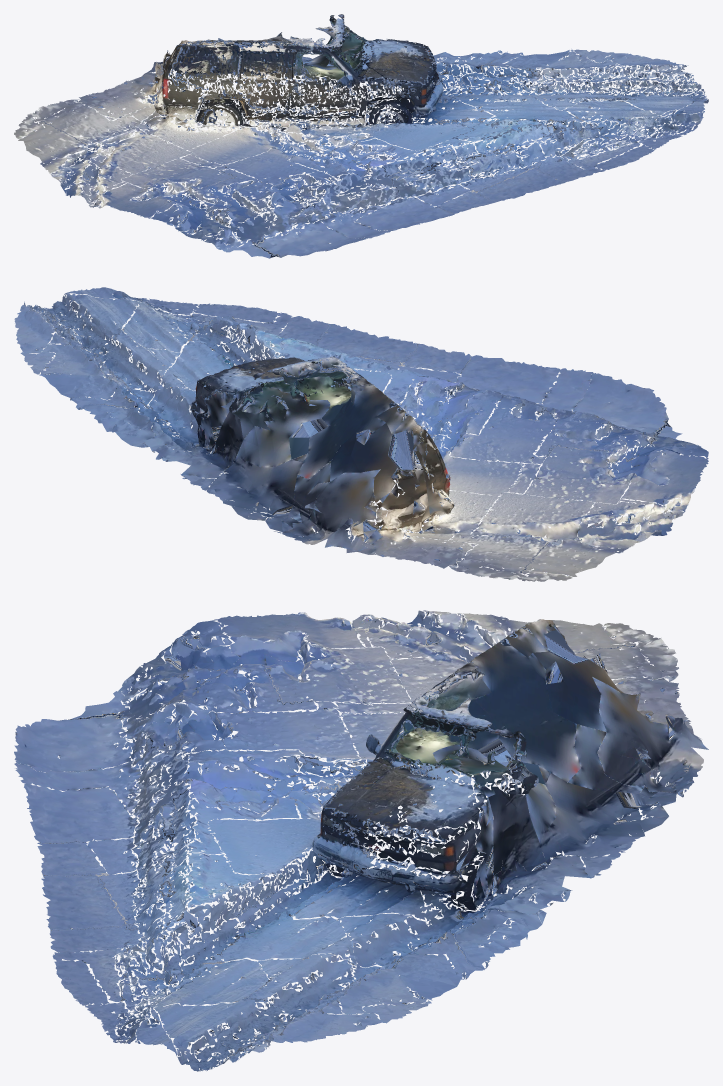
Rendered from border_car.glb.
3 views of the same model, one above another, from view 1: azimuth 30°, elevation 25°; view 2: azimuth 150°, elevation 25°; view 3: azimuth 270°, elevation 25° (orthographic). The views are drawn at different scales.
Parts seen in each view (by area): view 1: default_hammerinsnow_Material_u1_v1_0, default_hammerinsnow_Material_u2_v1_0, default_hammerinsnow_Material_u3_v1_0, default_hammerinsnow_Material_u1_v3_0, default_hammerinsnow_Material_u2_v2_0, default_hammerinsnow_Material_u3_v2_0, default_hammerinsnow_Material_u1_v2_0, default_hammerinsnow_Material_u2_v3_0; view 2: default_hammerinsnow_Material_u1_v1_0, default_hammerinsnow_Material_u2_v1_0, default_hammerinsnow_Material_u3_v1_0, default_hammerinsnow_Material_u1_v2_0, default_hammerinsnow_Material_u2_v2_0, default_hammerinsnow_Material_u3_v2_0, default_hammerinsnow_Material_u1_v3_0, default_hammerinsnow_Material_u2_v3_0; view 3: default_hammerinsnow_Material_u1_v1_0, default_hammerinsnow_Material_u3_v1_0, default_hammerinsnow_Material_u2_v1_0, default_hammerinsnow_Material_u1_v2_0, default_hammerinsnow_Material_u2_v2_0, default_hammerinsnow_Material_u3_v2_0, default_hammerinsnow_Material_u1_v3_0, default_hammerinsnow_Material_u2_v3_0.
Part boxes in pixels (x1=…): default_hammerinsnow_Material_u1_v1_0: x1=21, y1=15, x2=708, y2=244; default_hammerinsnow_Material_u2_v1_0: x1=35, y1=14, x2=706, y2=241; default_hammerinsnow_Material_u3_v1_0: x1=34, y1=15, x2=703, y2=244; default_hammerinsnow_Material_u1_v3_0: x1=60, y1=34, x2=704, y2=251; default_hammerinsnow_Material_u2_v2_0: x1=18, y1=15, x2=701, y2=239; default_hammerinsnow_Material_u3_v2_0: x1=27, y1=32, x2=708, y2=244; default_hammerinsnow_Material_u1_v2_0: x1=14, y1=15, x2=705, y2=258; default_hammerinsnow_Material_u2_v3_0: x1=51, y1=56, x2=704, y2=212; default_hammerinsnow_Material_u1_v1_0: x1=19, y1=293, x2=693, y2=572; default_hammerinsnow_Material_u2_v1_0: x1=14, y1=297, x2=679, y2=573; default_hammerinsnow_Material_u3_v1_0: x1=31, y1=287, x2=708, y2=576; default_hammerinsnow_Material_u1_v2_0: x1=20, y1=296, x2=708, y2=581; default_hammerinsnow_Material_u2_v2_0: x1=24, y1=298, x2=695, y2=576; default_hammerinsnow_Material_u3_v2_0: x1=64, y1=287, x2=658, y2=579; default_hammerinsnow_Material_u1_v3_0: x1=30, y1=287, x2=694, y2=546; default_hammerinsnow_Material_u2_v3_0: x1=66, y1=323, x2=681, y2=541; default_hammerinsnow_Material_u1_v1_0: x1=24, y1=613, x2=708, y2=1071; default_hammerinsnow_Material_u3_v1_0: x1=14, y1=610, x2=683, y2=1061; default_hammerinsnow_Material_u2_v1_0: x1=52, y1=614, x2=692, y2=1070; default_hammerinsnow_Material_u1_v2_0: x1=14, y1=617, x2=675, y2=1056; default_hammerinsnow_Material_u2_v2_0: x1=30, y1=616, x2=686, y2=1062; default_hammerinsnow_Material_u3_v2_0: x1=54, y1=620, x2=700, y2=1056; default_hammerinsnow_Material_u1_v3_0: x1=87, y1=610, x2=683, y2=1065; default_hammerinsnow_Material_u2_v3_0: x1=136, y1=614, x2=668, y2=1012.
Size of the model in its own units: 67.05 by 10.73 by 43.44.
8 materials, 8 textured.
